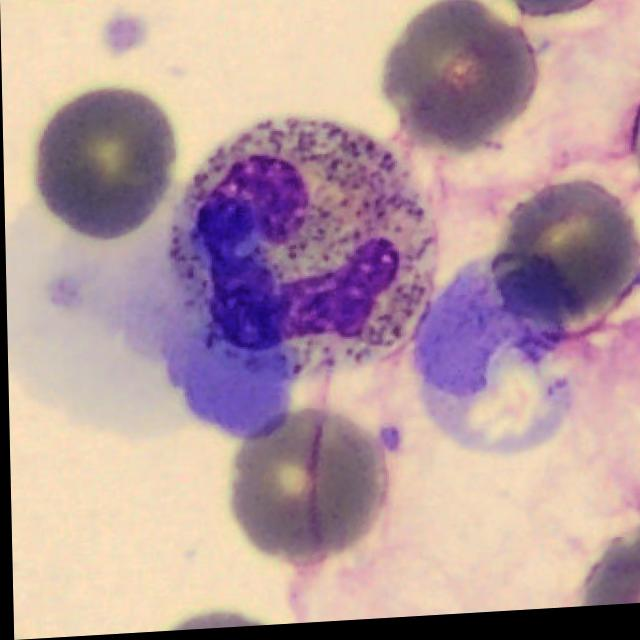Neutrofilo segmentado: (169, 121, 437, 387)
